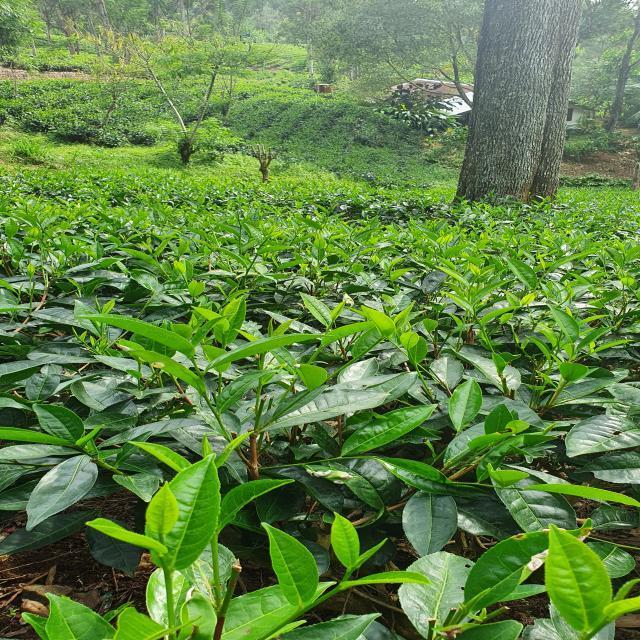Stem: (165, 570, 172, 579), (333, 587, 340, 593), (199, 371, 204, 376)
